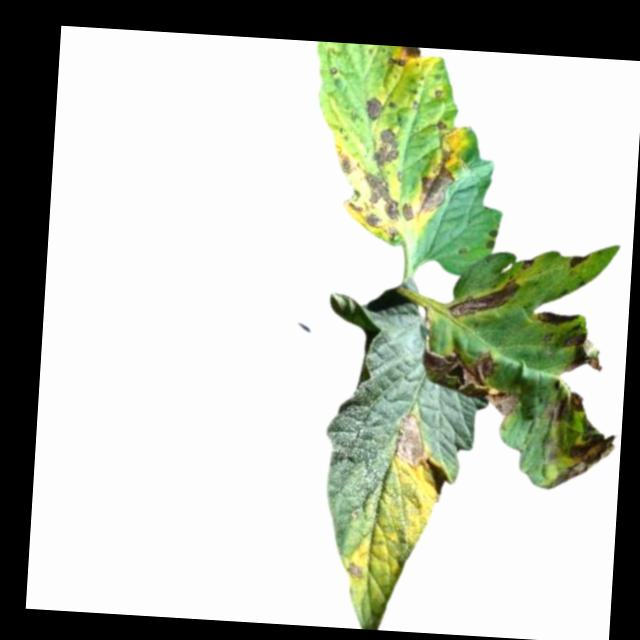Early_blight: (330, 124, 419, 241), (425, 344, 524, 418), (555, 429, 617, 488), (447, 276, 523, 323), (417, 145, 459, 216), (391, 409, 429, 467), (561, 329, 603, 375), (543, 388, 589, 428), (536, 306, 585, 328), (386, 46, 429, 70), (362, 95, 384, 122), (346, 557, 366, 580), (569, 249, 590, 268), (484, 225, 498, 248), (519, 254, 531, 271), (435, 119, 449, 130)
